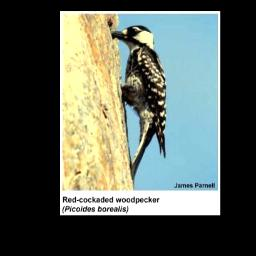Woodpecker: (108, 24, 170, 181)
